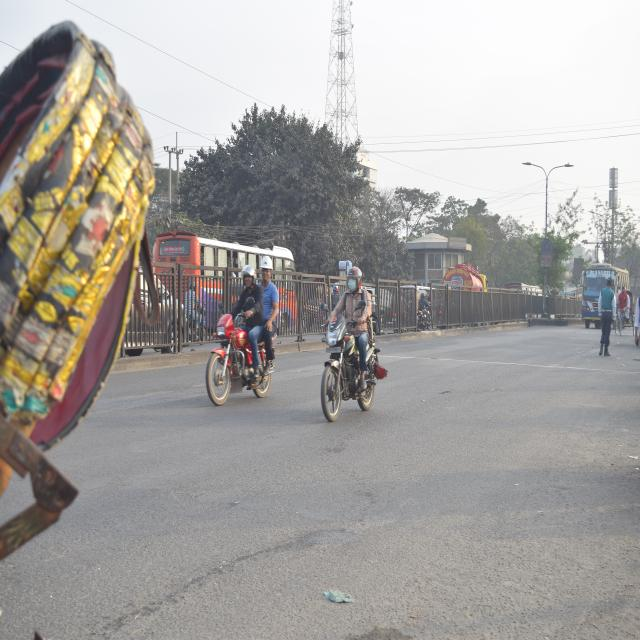bus: (163, 225, 294, 320), (581, 257, 630, 323)
motorbike: (196, 313, 276, 411), (317, 314, 382, 431)
